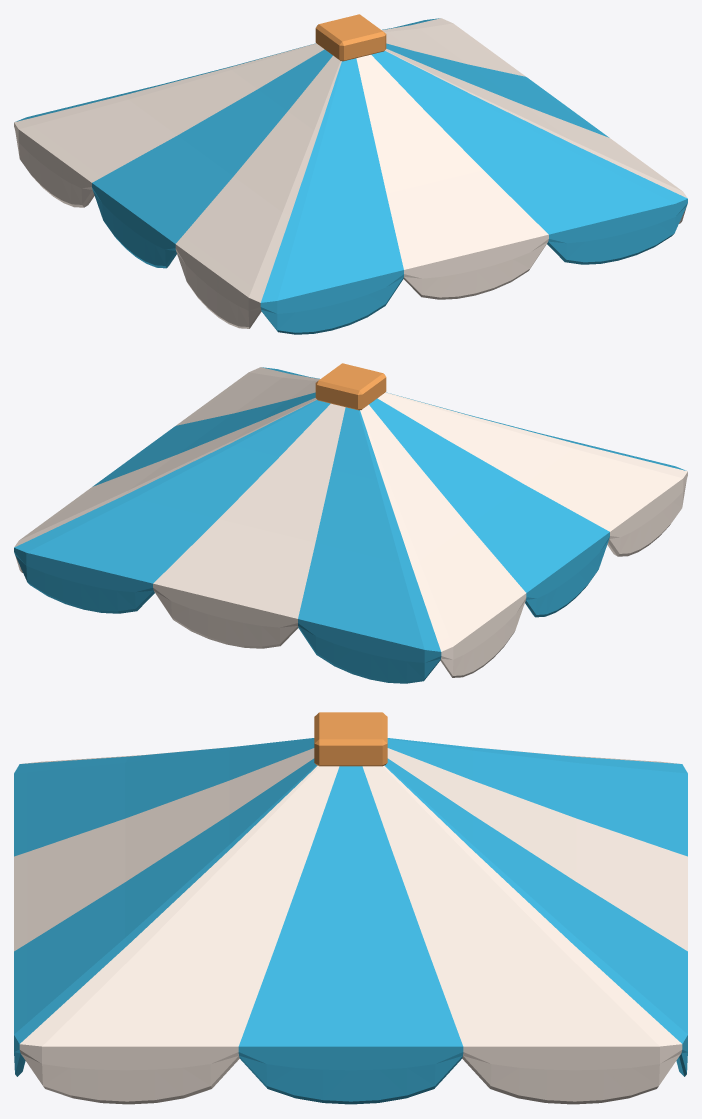
File: beachCanopy.glb
The picture shows the model from 3 angles, top to bottom: view 1: azimuth 30°, elevation 25°; view 2: azimuth 150°, elevation 25°; view 3: azimuth 270°, elevation 25°; orthographic projection. The views are drawn at different scales.
Parts seen in each view (by area): view 1: beachCanopy; view 2: beachCanopy; view 3: beachCanopy.
Boxes of the visible parts, left/top/right/bottom form: beachCanopy: left=14, top=14, right=687, bottom=334; beachCanopy: left=14, top=363, right=687, bottom=683; beachCanopy: left=14, top=712, right=687, bottom=1104.
Bounding box in the file's own units: 3.6 × 1.4 × 3.6.
Materials: 1 (1 with a texture image).
